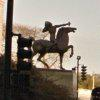Statue: (28, 18, 80, 71)
